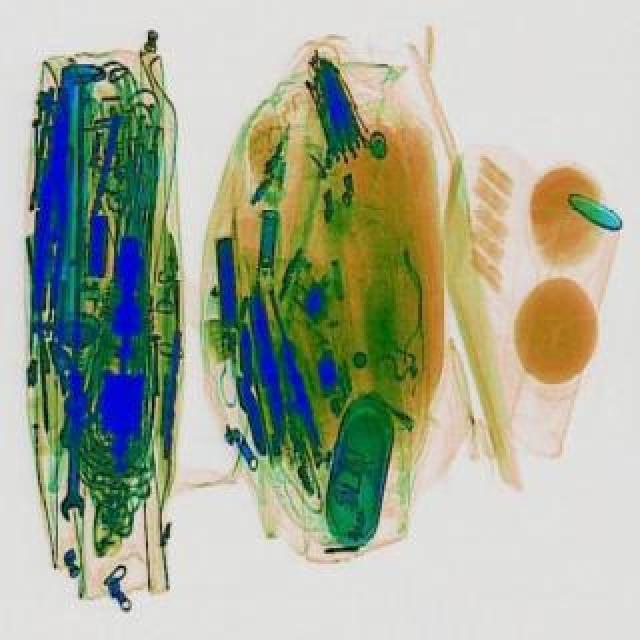scissors: (60, 396, 88, 524)
wrench: (32, 86, 84, 314)
